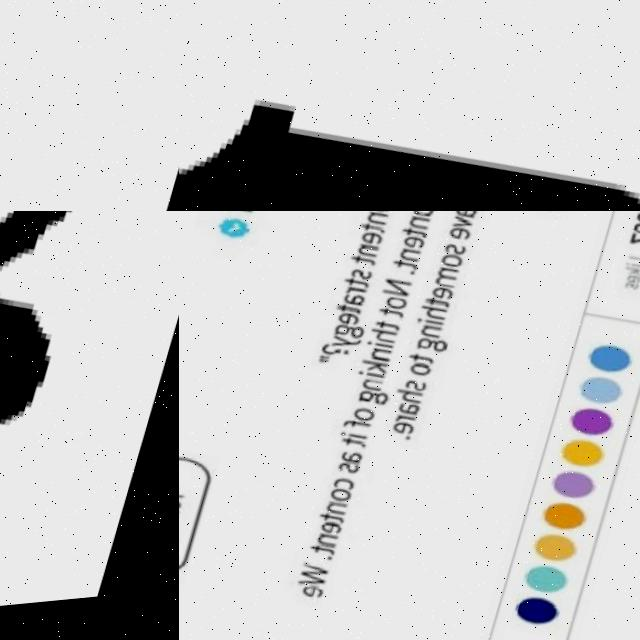0: (633, 228, 640, 248)
1: (549, 211, 573, 215)
7: (548, 211, 570, 223), (630, 239, 640, 259)
8: (633, 215, 640, 238)
A: (0, 211, 138, 608)
R: (0, 0, 179, 211)
T: (179, 41, 640, 211)
